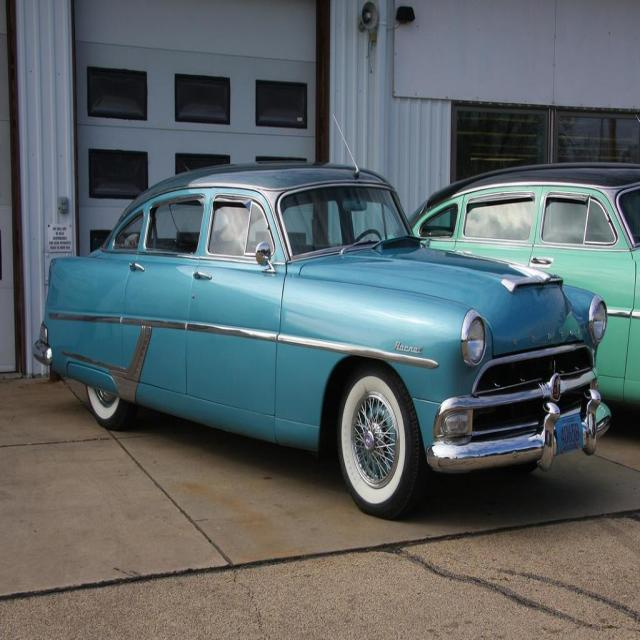car: (24, 109, 615, 517)
